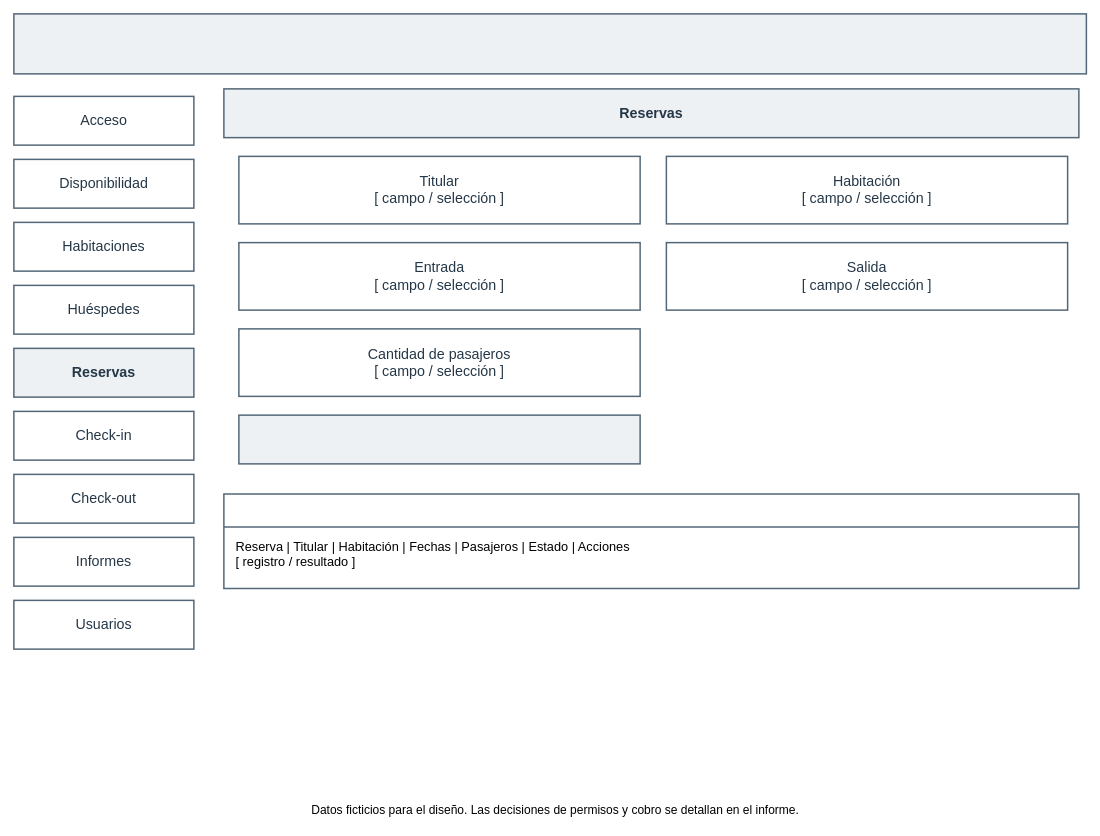
The diagram is 1100 pixels wide and 836 high, and some of its shapes have lost their labels. The box of each missing label's shape, as (x1, y1, x2, y2) in pixels:
Guardar reserva: (238, 414, 640, 464)
Hotel Duerme Bien · Sistema de pasajeros: (13, 13, 1087, 74)
Resultados / registros: (223, 493, 1079, 589)
